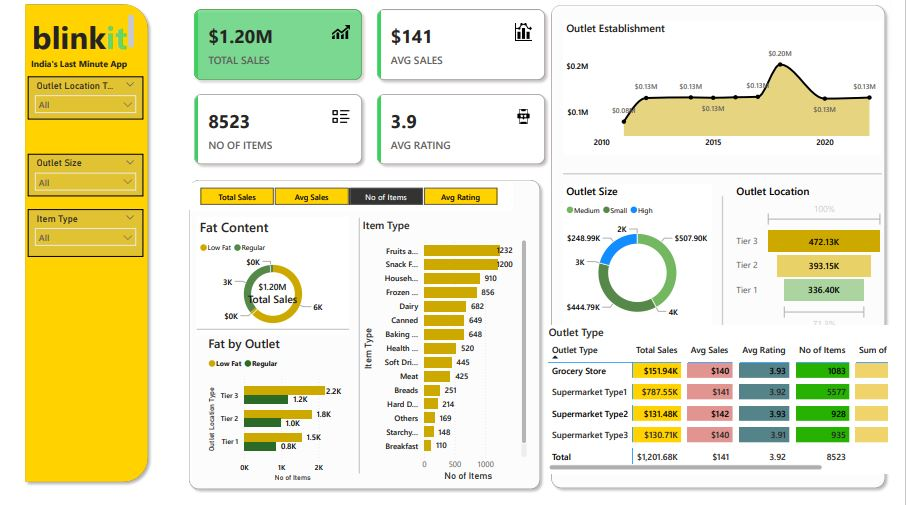

What the dashboard file says about the page in this screenshot:
{"tool":"powerbi","page":{"name":"Page 1","canvas":[1400,800],"ordinal":0},"visuals":[{"type":"shape","box":[64.3,38.6,205,750],"z":0},{"type":"textbox","box":[77.2,58.8,167.2,66.1],"z":1000},{"type":"textbox","box":[77.2,124.9,167.2,33.1],"z":2000},{"type":"cardVisual","fields":{"Data":["BlinkIT Grocery Data.Total Sales","BlinkIT Grocery Data.Avg Sales","BlinkIT Grocery Data.No of Items","BlinkIT Grocery Data.Avg Rating"]},"box":[316,38.6,570,270],"z":3000},{"type":"shape","box":[316,309,554,491],"z":4000},{"type":"donutChart","title":"Fat Content","fields":{"Y":["BlinkIT Grocery Data.No of Items","BlinkIT Grocery Data.Avg Sales"],"Category":["BlinkIT Grocery Data.Item Fat Content"]},"box":[336.2,374.8,233.3,180.1],"z":5000},{"type":"slicer","fields":{"Values":["Metrics 2.Metrics"]},"box":[316,321.5,505.2,40.4],"z":6000},{"type":"cardVisual","fields":{"Data":["BlinkIT Grocery Data.Total Sales"]},"box":[371.1,440.9,163.5,99.2],"z":7000},{"type":"clusteredBarChart","title":"Fat by Outlet","fields":{"Y":["BlinkIT Grocery Data.No of Items"],"Category":["BlinkIT Grocery Data.Outlet Location Type"],"Series":["BlinkIT Grocery Data.Item Fat Content"]},"box":[349.1,554.9,220.5,229.7],"z":8000},{"type":"shape","box":[336.2,540.2,233.3,12.9],"z":9000},{"type":"shape","box":[569.6,374.8,31.2,393.2],"z":10000},{"type":"barChart","title":"Item Type","fields":{"Y":["BlinkIT Grocery Data.No of Items"],"Category":["BlinkIT Grocery Data.Item Type"]},"box":[586.1,374.8,260.9,409.7],"z":11000},{"type":"shape","box":[870.9,40.4,529.1,758.8],"z":12000},{"type":"lineChart","title":"Outlet Establishment","fields":{"Category":["BlinkIT Grocery Data.Outlet Establishment Year"],"Y":["BlinkIT Grocery Data.Total Sales"]},"box":[898.4,73.5,488.7,203.9],"z":13000},{"type":"shape","box":[898.4,301.3,488.7,12.9],"z":14000},{"type":"donutChart","title":"Outlet Size","fields":{"Y":["BlinkIT Grocery Data.Total Sales","BlinkIT Grocery Data.No of Items","BlinkIT Grocery Data.Avg Sales"],"Category":["BlinkIT Grocery Data.Outlet Size","BlinkIT Grocery Data.Item Fat Content"]},"box":[898.4,323.4,227.8,224.1],"z":15000},{"type":"shape","box":[1126.2,341.7,33.1,229.7],"z":16000},{"type":"funnel","title":"Outlet Location","fields":{"Y":["Sum(BlinkIT Grocery Data.Sales)"],"Category":["BlinkIT Grocery Data.Outlet Location Type"]},"box":[1159.3,323.4,235,230],"z":17000},{"type":"shape","box":[898.4,553,488.7,12.9],"z":18000},{"type":"pivotTable","title":"Outlet Type","fields":{"Values":["BlinkIT Grocery Data.Total Sales","BlinkIT Grocery Data.Avg Sales","BlinkIT Grocery Data.Avg Rating","BlinkIT Grocery Data.No of Items","Sum(BlinkIT Grocery Data.Item Visibility)"],"Rows":["BlinkIT Grocery Data.Outlet Type"]},"box":[870.9,540.2,529.1,227.8],"z":19000},{"type":"actionButton","box":[0,0,100,40],"z":20000},{"type":"slicer","fields":{"Values":["BlinkIT Grocery Data.Outlet Location Type"]},"box":[77.2,158,176.4,66.1],"z":20001},{"type":"slicer","fields":{"Values":["BlinkIT Grocery Data.Outlet Size"]},"box":[77.2,277.4,176.4,64.3],"z":20002},{"type":"slicer","fields":{"Values":["BlinkIT Grocery Data.Item Type"]},"box":[77.2,361.9,176.4,73.5],"z":20003}]}

Visuals, with their boxes in screenshot pixels (x1, y1, x2, y2), scaled from the page's 1400x800 canvas onto the 906x505 screenshot:
shape: {"x1": 42, "y1": 24, "x2": 174, "y2": 498}
textbox: {"x1": 50, "y1": 37, "x2": 158, "y2": 79}
textbox: {"x1": 50, "y1": 79, "x2": 158, "y2": 100}
cardVisual - BlinkIT Grocery Data.Total Sales x BlinkIT Grocery Data.Avg Sales: {"x1": 204, "y1": 24, "x2": 573, "y2": 195}
shape: {"x1": 204, "y1": 195, "x2": 563, "y2": 504}
"Fat Content" donutChart: {"x1": 218, "y1": 237, "x2": 369, "y2": 350}
slicer - Metrics 2.Metrics: {"x1": 204, "y1": 203, "x2": 531, "y2": 228}
cardVisual - BlinkIT Grocery Data.Total Sales: {"x1": 240, "y1": 278, "x2": 346, "y2": 341}
"Fat by Outlet" clusteredBarChart: {"x1": 226, "y1": 350, "x2": 369, "y2": 495}
shape: {"x1": 218, "y1": 341, "x2": 369, "y2": 349}
shape: {"x1": 369, "y1": 237, "x2": 389, "y2": 485}
"Item Type" barChart: {"x1": 379, "y1": 237, "x2": 548, "y2": 495}
shape: {"x1": 564, "y1": 26, "x2": 905, "y2": 504}
"Outlet Establishment" lineChart: {"x1": 581, "y1": 46, "x2": 898, "y2": 175}
shape: {"x1": 581, "y1": 190, "x2": 898, "y2": 198}
"Outlet Size" donutChart: {"x1": 581, "y1": 204, "x2": 729, "y2": 346}
shape: {"x1": 729, "y1": 216, "x2": 750, "y2": 361}
"Outlet Location" funnel: {"x1": 750, "y1": 204, "x2": 902, "y2": 349}
shape: {"x1": 581, "y1": 349, "x2": 898, "y2": 357}
"Outlet Type" pivotTable: {"x1": 564, "y1": 341, "x2": 905, "y2": 485}
actionButton: {"x1": 0, "y1": 0, "x2": 65, "y2": 25}
slicer - BlinkIT Grocery Data.Outlet Location Type: {"x1": 50, "y1": 100, "x2": 164, "y2": 141}
slicer - BlinkIT Grocery Data.Outlet Size: {"x1": 50, "y1": 175, "x2": 164, "y2": 216}
slicer - BlinkIT Grocery Data.Item Type: {"x1": 50, "y1": 228, "x2": 164, "y2": 275}
